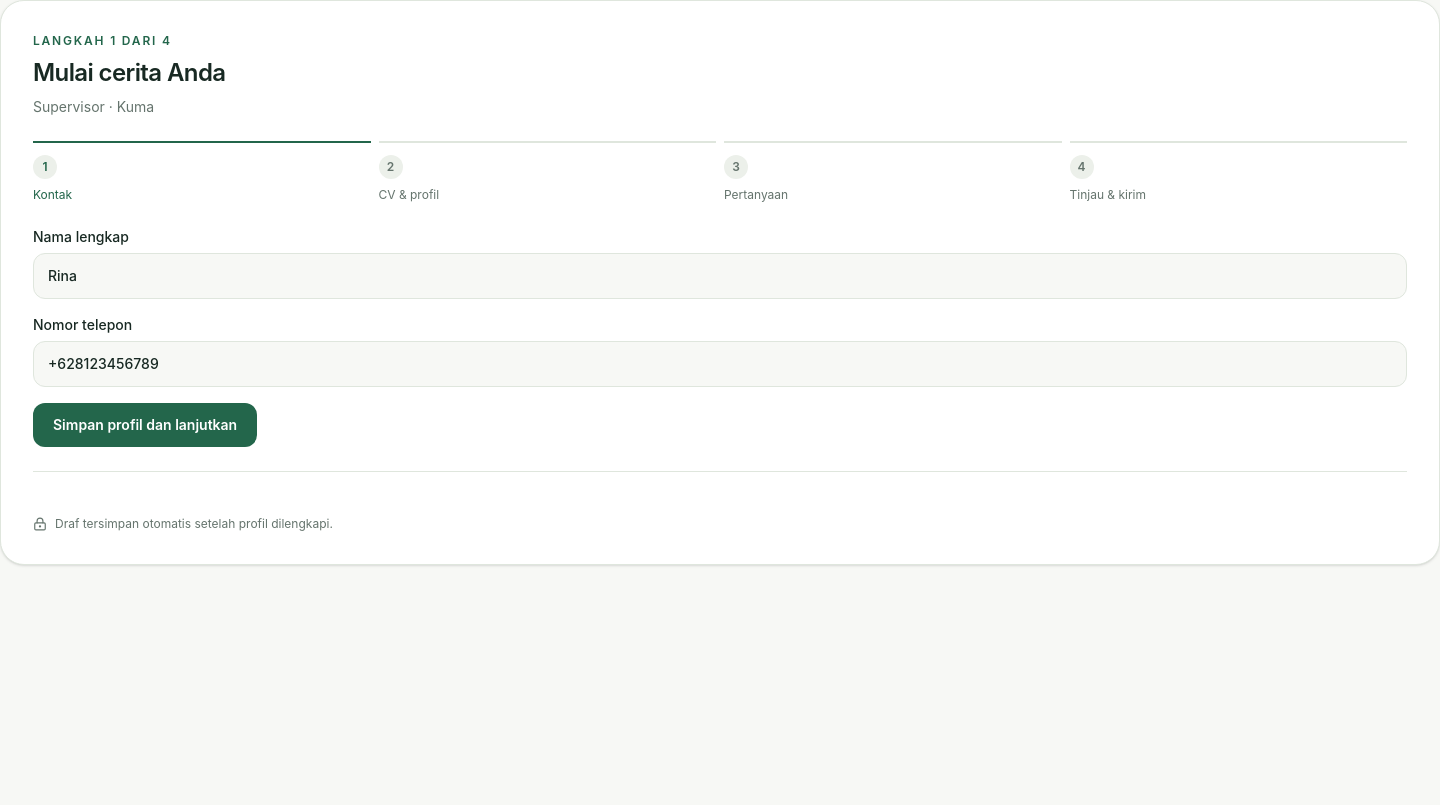
Test: optional documents may be skipped and saved files respect the required format
Later steps or results of the test are not shown.
What coordinates should you click on to do the following:
click the button "Simpan profil dan lanjutkan"
I would click on:
 (145, 425)
Its box is [33,403,257,447].
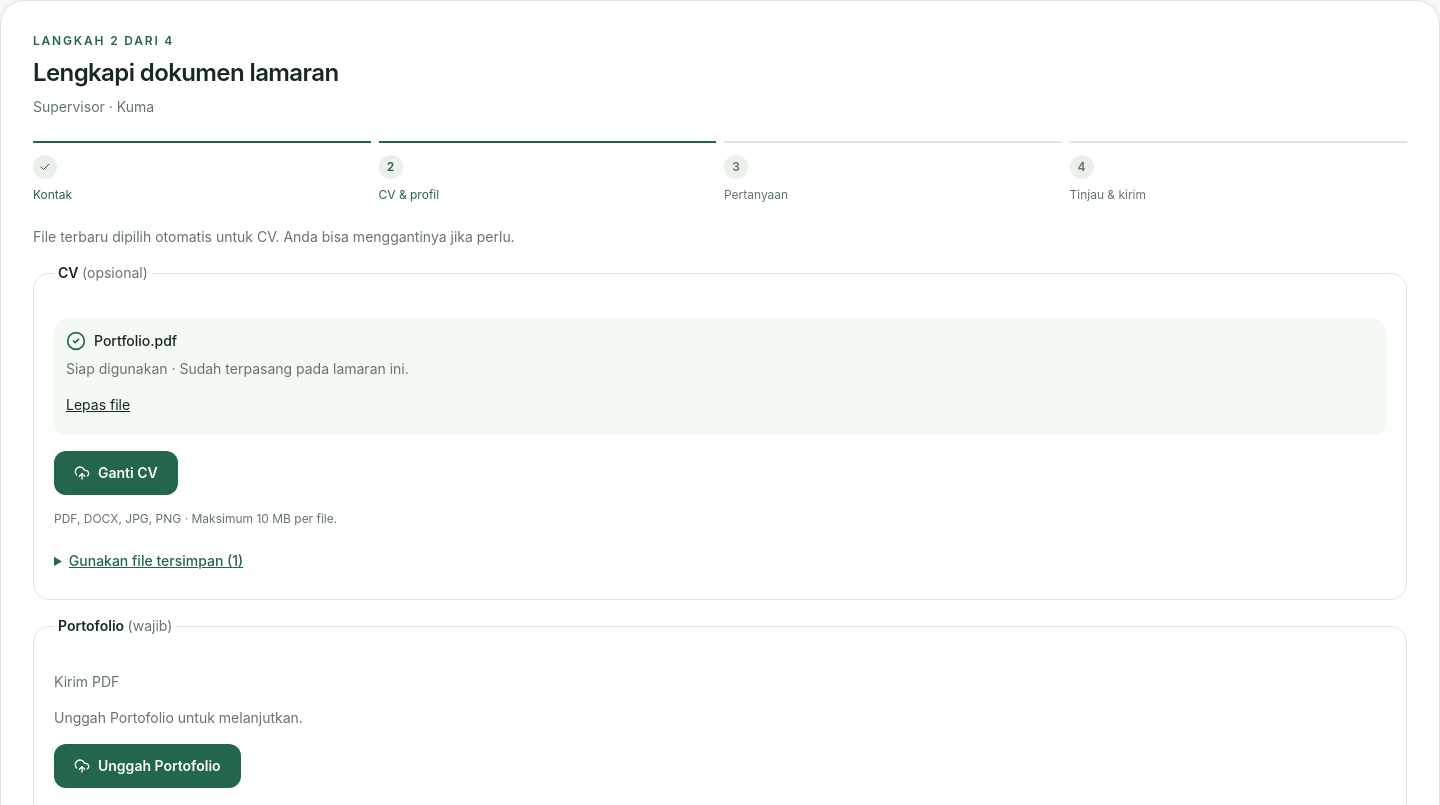
expect the heading "Lengkapi dokumen lamaran" is shown: met, box [33,58,338,87]
expect the file field labelled "Ganti CV" is shown: met, box [54,451,178,495]
